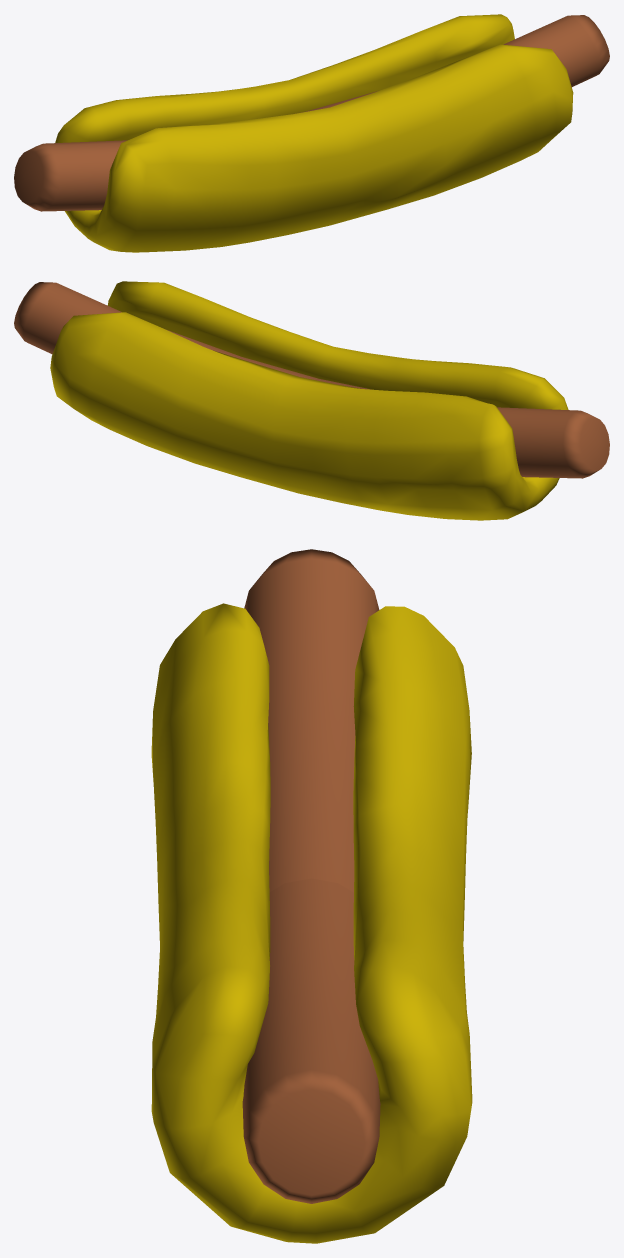
The model's file is hotdog_UV2.fbx.
3 views of the same model, one above another, from view 1: azimuth 30°, elevation 25°; view 2: azimuth 150°, elevation 25°; view 3: azimuth 270°, elevation 25° (orthographic). The views are drawn at different scales.
Visible parts, largest first — view 1: polySurface76; view 2: polySurface76; view 3: polySurface76.
Boxes of the visible parts, box(x1,y1,x2,y2) form: polySurface76: box(14, 14, 609, 252); polySurface76: box(14, 281, 609, 520); polySurface76: box(151, 549, 472, 1243).
Bounding box in the file's own units: 33.98 × 8.35 × 8.15.
